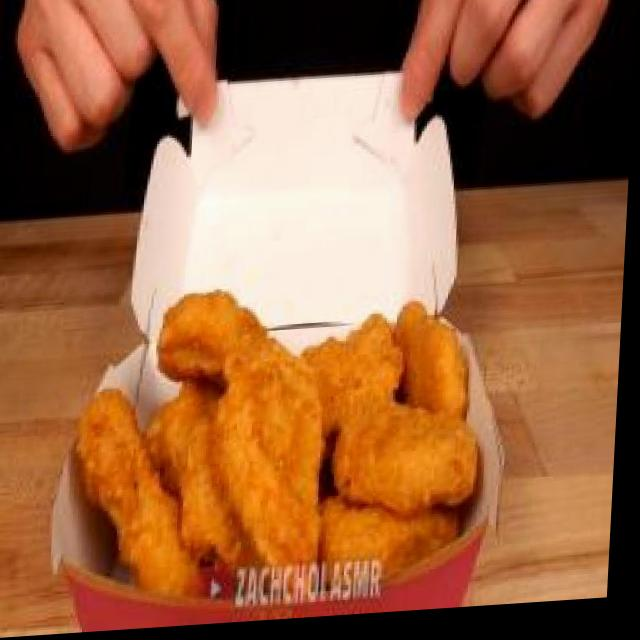nugget: (50, 237, 522, 611)
